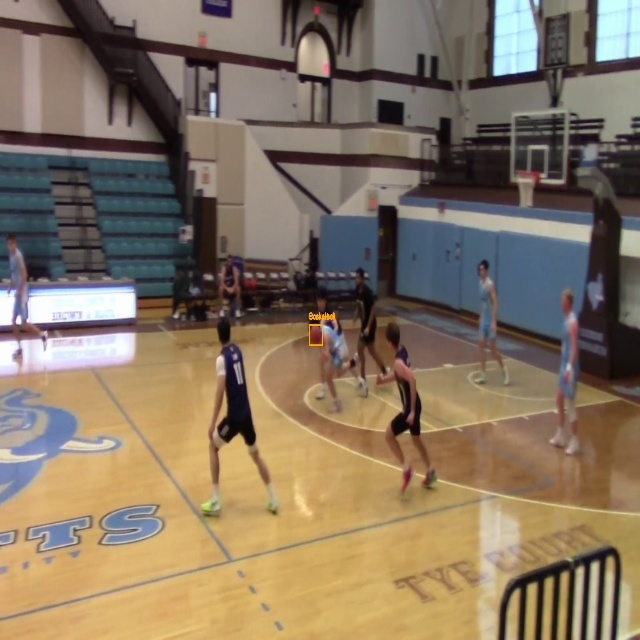Basketball: (309, 325, 322, 345)
